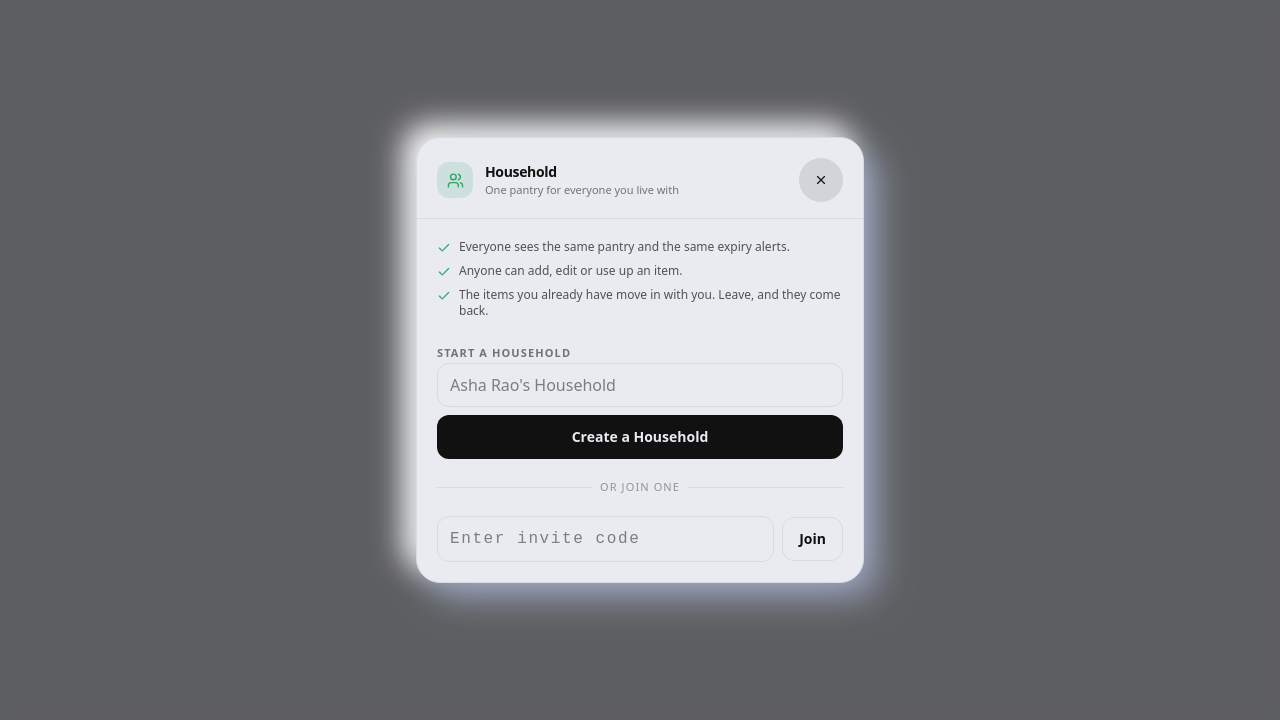
Scenario: HouseholdModal — joining › says plainly when the person is already in a household
The width and height of the screenshot is (1280, 720).
Type "a1b2c3d4e5f6" into the field with placeholder "Enter invite code" at (606, 539), box [437,516,774,562]
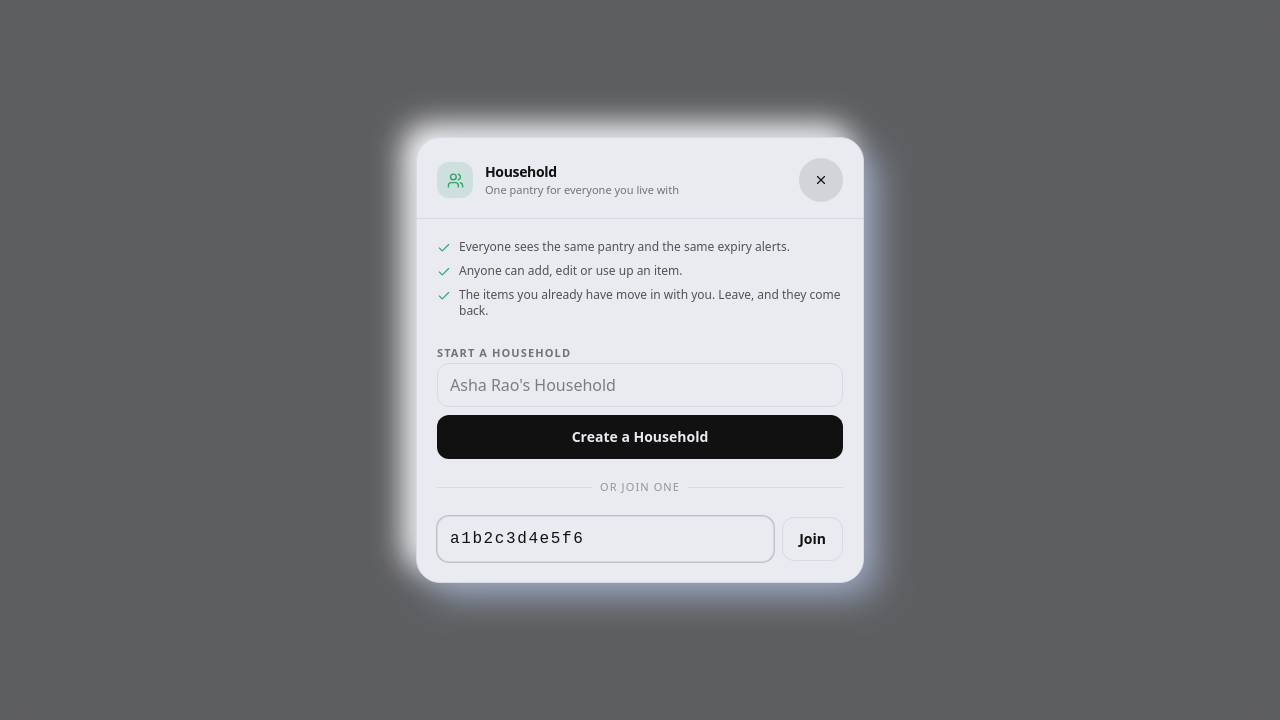
Click the button "Join" at (813, 539), box [782,517,843,561]
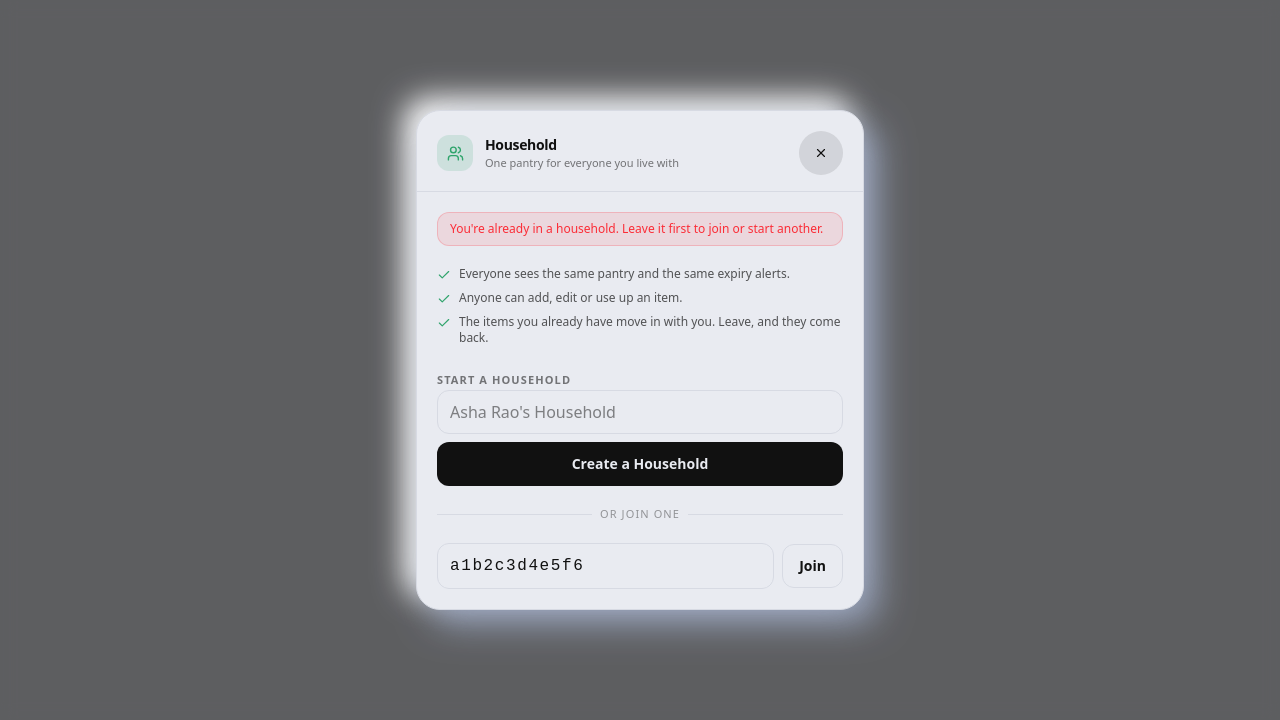
Result: the text "already in a household" is shown at [450,220,823,237]
